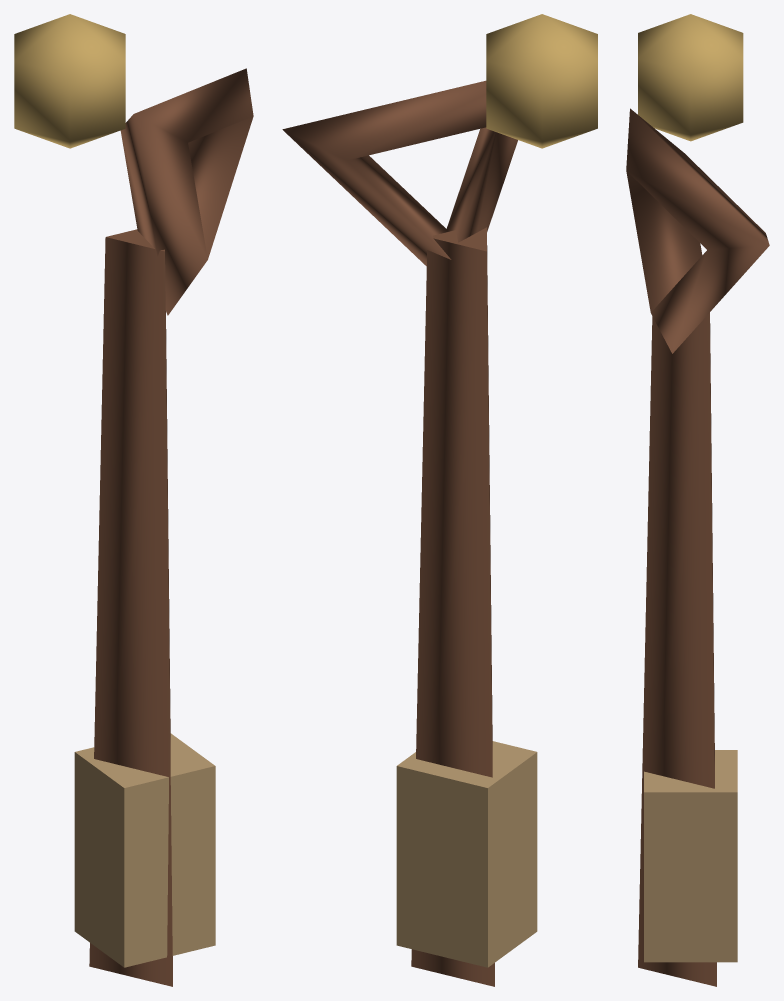
The model's file is wand-3-lod2.glb.
3 views of the same model, side by side, from view 1: azimuth 30°, elevation 25°; view 2: azimuth 150°, elevation 25°; view 3: azimuth 270°, elevation 25° (orthographic). The views are drawn at different scales.
Visible parts, largest first — view 1: piece_whole; view 2: piece_whole; view 3: piece_whole.
Boxes of the visible parts, left/top/right/bottom form: piece_whole: left=14, top=14, right=253, bottom=986; piece_whole: left=282, top=14, right=597, bottom=986; piece_whole: left=626, top=14, right=769, bottom=986.
Bounding box in the file's own units: 0.2555 × 0.865 × 0.1225.
